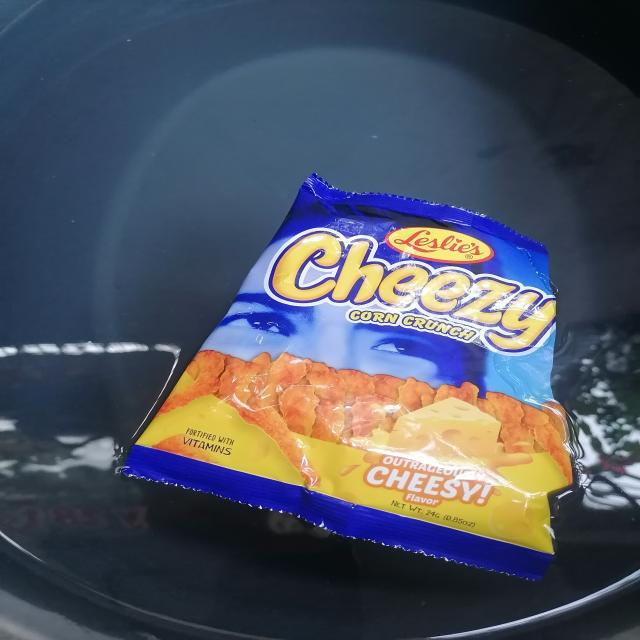Plastic Wrapper: (98, 157, 591, 589)
